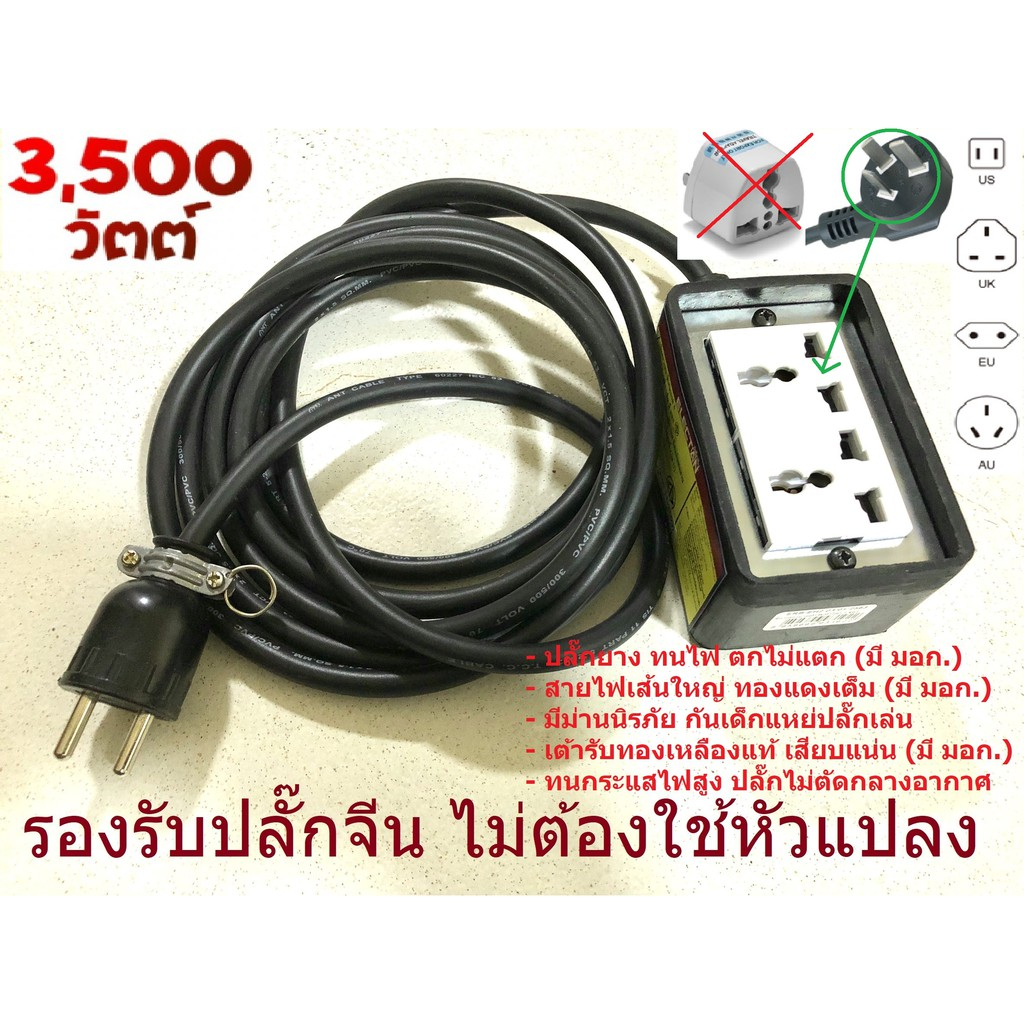Three_eye_plug: (651, 258, 982, 653)
